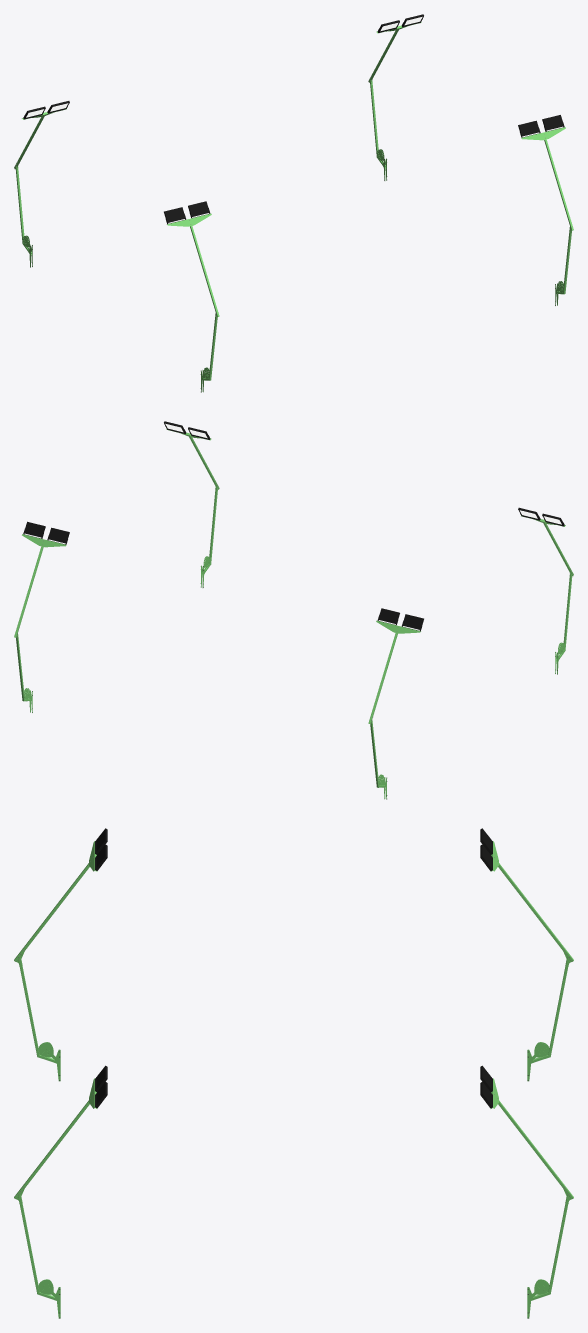
Rendered from padel_2.glb.
The picture shows the model from 3 angles, top to bottom: view 1: azimuth 30°, elevation 25°; view 2: azimuth 150°, elevation 25°; view 3: azimuth 270°, elevation 25°; orthographic projection. The views are drawn at different scales.
Visible parts, largest first — view 1: padel_3; view 2: padel_3; view 3: padel_3.
Part boxes in pixels (box(x1,y1,x2,y2)): padel_3: box(14, 14, 573, 392); padel_3: box(14, 421, 573, 799); padel_3: box(14, 828, 573, 1318).
Bounding box in the file's own units: 13.53 × 5.64 × 12.
